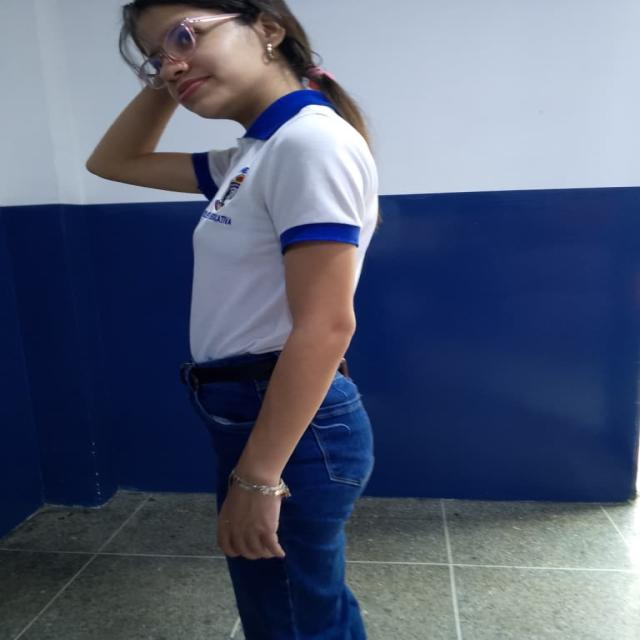pantalon_oscuro: (197, 366, 376, 640)
uniforme_superior: (188, 89, 380, 367)
